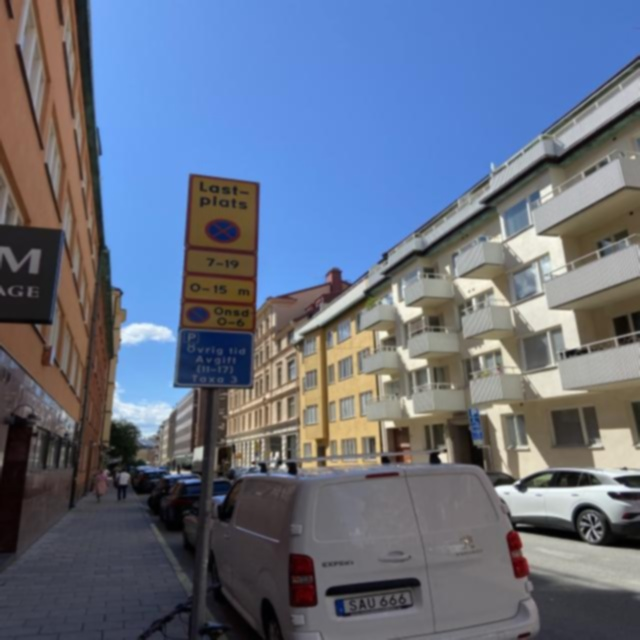lastplats: (186, 176, 262, 250)
